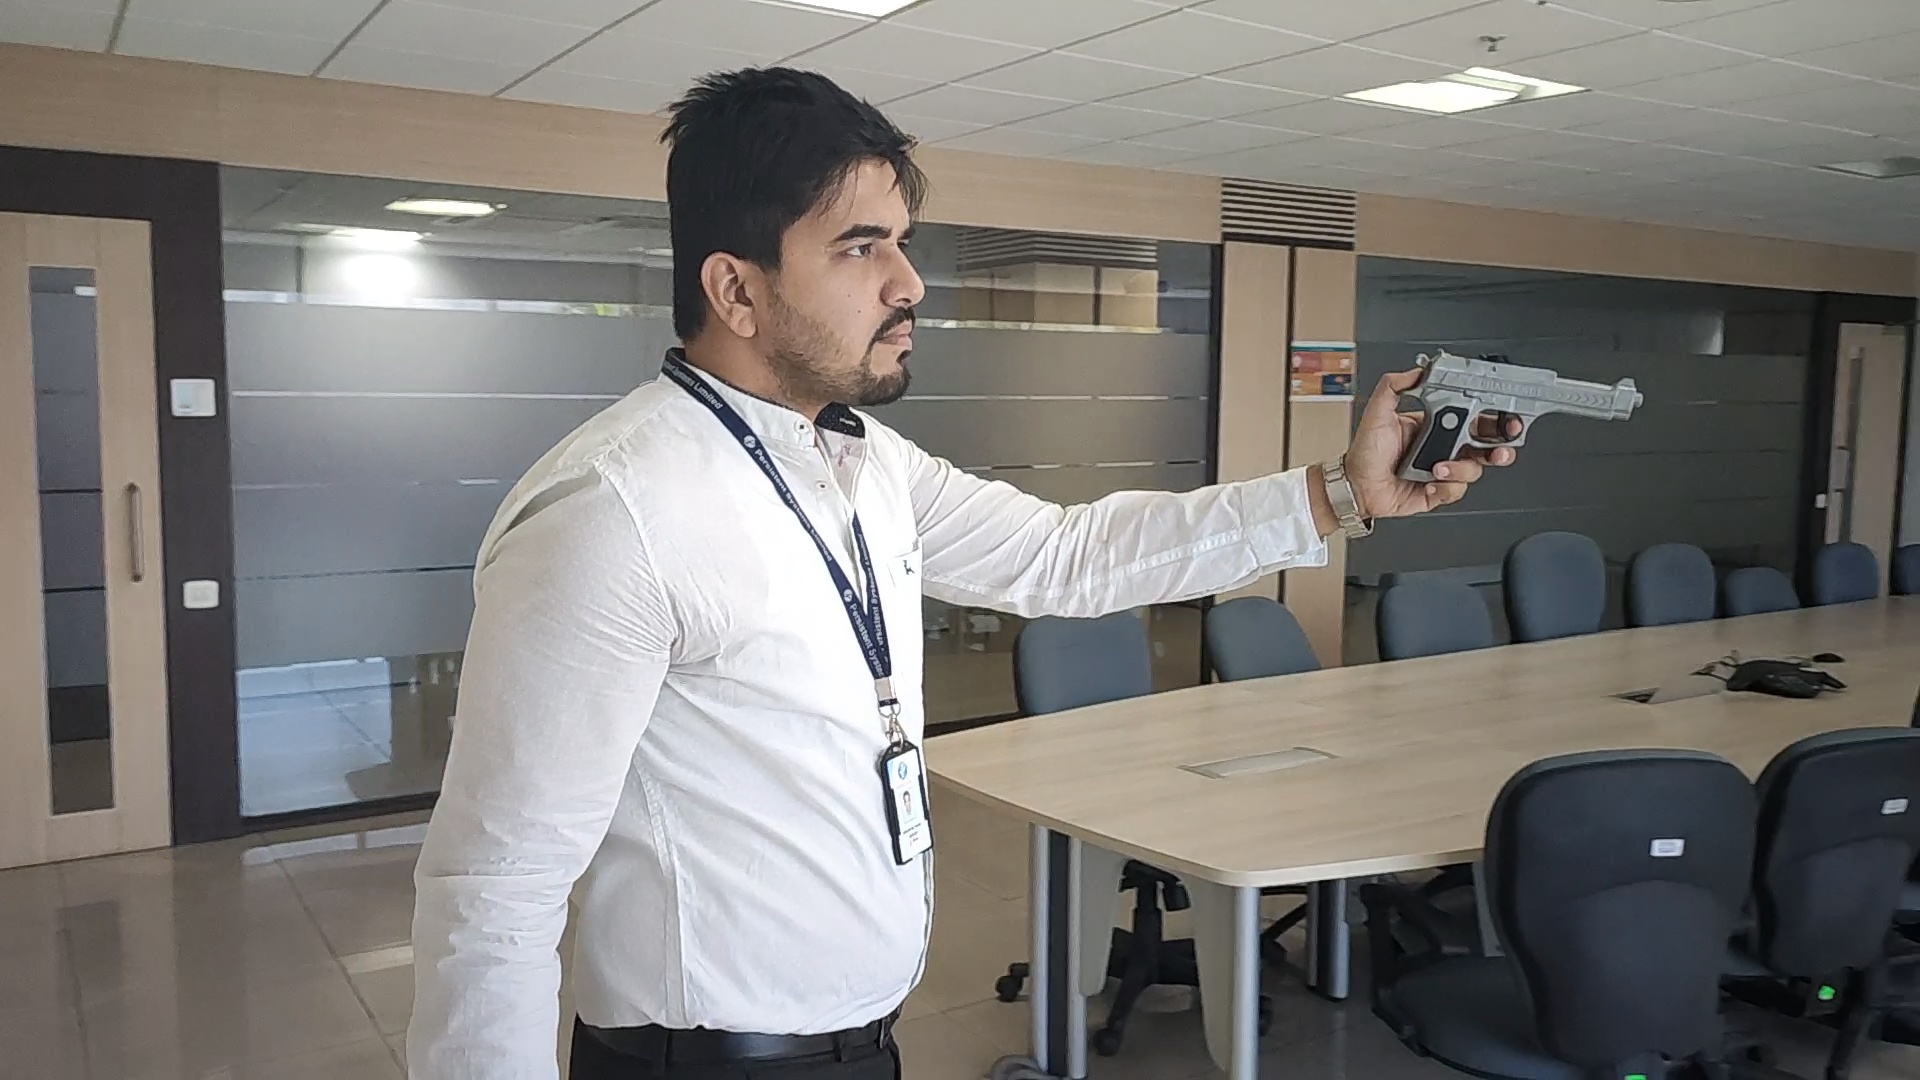gun: (1396, 343, 1644, 484)
